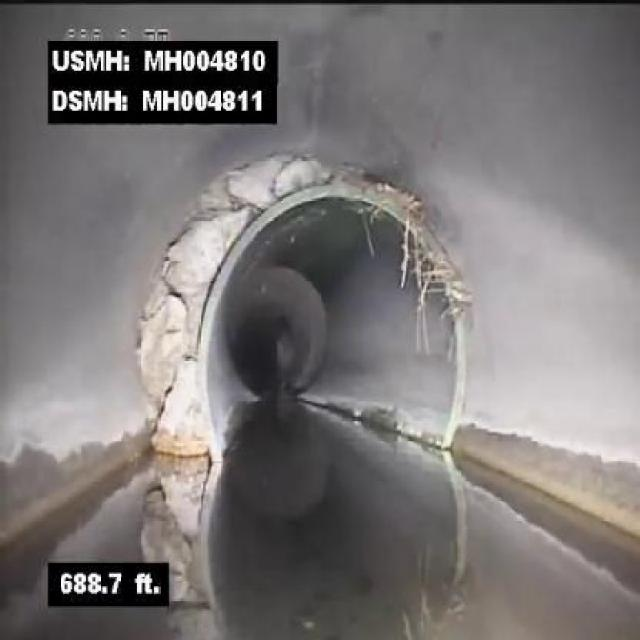Joint offset: (169, 148, 368, 254), (131, 253, 220, 464)
